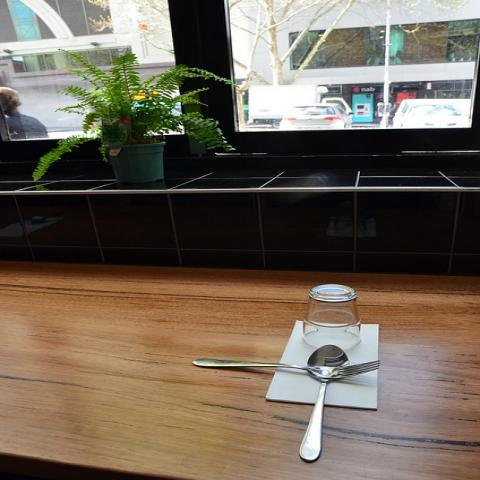car: (389, 100, 470, 129), (278, 103, 354, 131)
